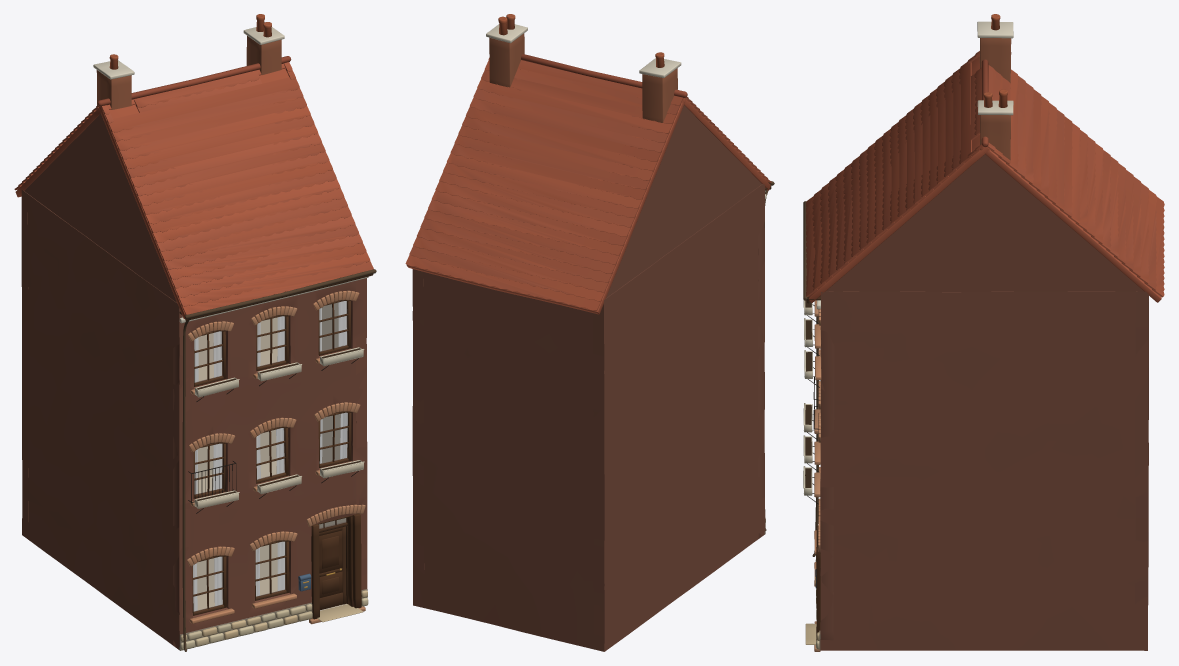
Rendered from LibraryRow_Neighbor2.glb.
3 views of the same model, side by side, from view 1: azimuth 30°, elevation 25°; view 2: azimuth 150°, elevation 25°; view 3: azimuth 270°, elevation 25° (orthographic). The views are drawn at different scales.
Parts seen in each view (by area): view 1: Sammel Ziegel, Sammel Stein, Sammel Holz, Glas, Sammel Putz, Sammel Putz innen, Vorhang Leinen, Sammel Lack, Sammel Metall; view 2: Sammel Ziegel, Sammel Stein, Sammel Putz; view 3: Sammel Ziegel, Sammel Stein, Sammel Putz, Sammel Lack, Sammel Metall.
Part boxes in pixels (left/top/right/bottom): Sammel Ziegel: left=21, top=36, right=367, bottom=649; Sammel Stein: left=14, top=56, right=373, bottom=650; Sammel Holz: left=179, top=274, right=373, bottom=619; Glas: left=193, top=301, right=347, bottom=611; Sammel Putz: left=93, top=14, right=368, bottom=650; Sammel Putz innen: left=197, top=302, right=346, bottom=610; Vorhang Leinen: left=193, top=301, right=347, bottom=611; Sammel Lack: left=194, top=347, right=364, bottom=591; Sammel Metall: left=182, top=269, right=376, bottom=651; Sammel Ziegel: left=412, top=33, right=765, bottom=651; Sammel Stein: left=405, top=54, right=771, bottom=522; Sammel Putz: left=486, top=14, right=766, bottom=534; Sammel Ziegel: left=820, top=38, right=1148, bottom=650; Sammel Stein: left=805, top=51, right=1164, bottom=649; Sammel Putz: left=805, top=14, right=1013, bottom=651; Sammel Lack: left=803, top=300, right=816, bottom=587; Sammel Metall: left=803, top=201, right=819, bottom=583.
Size of the model in its own units: 5.64 by 14.93 by 8.83.
